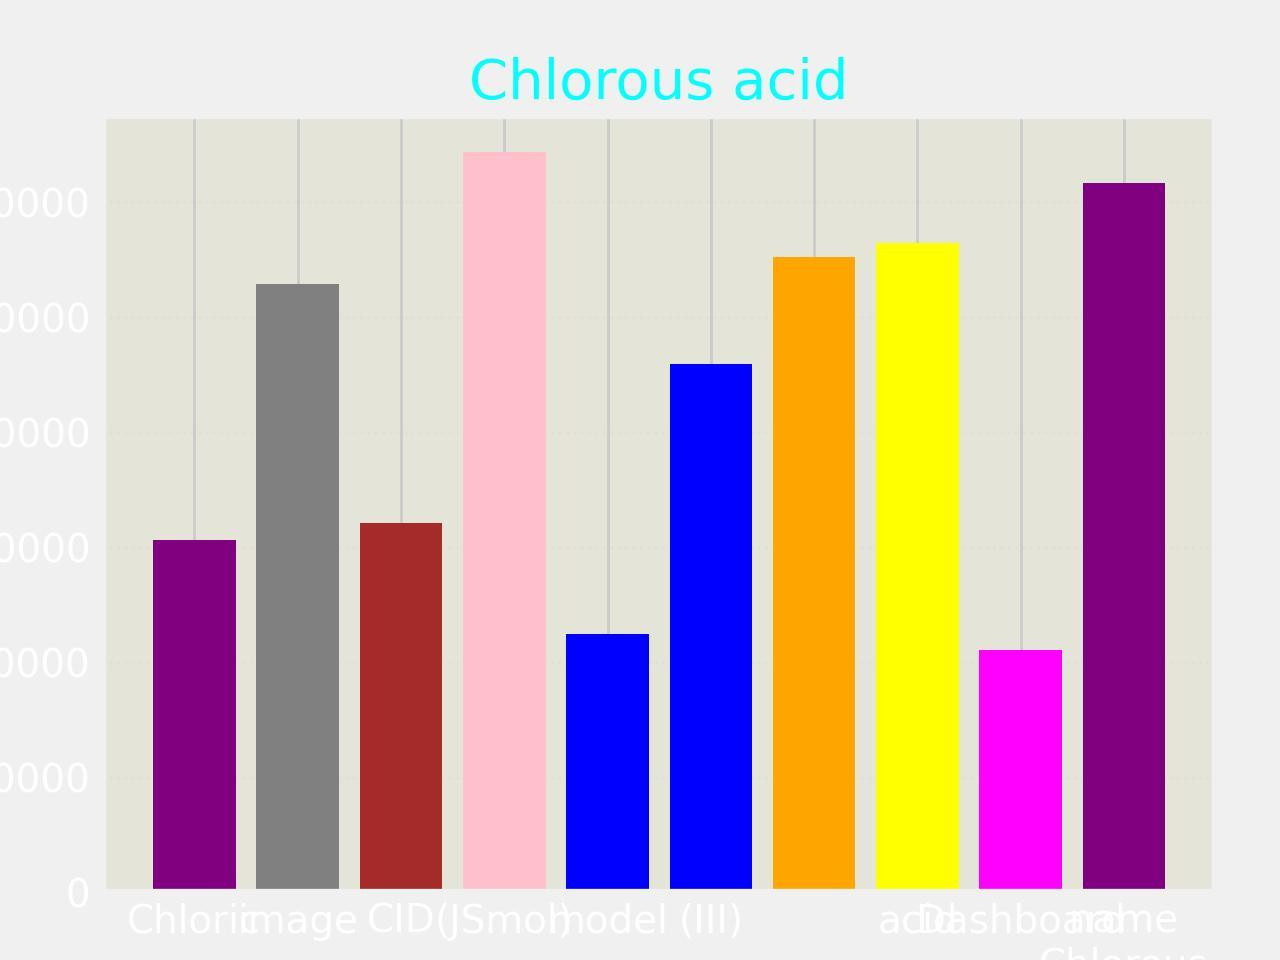axis: (0, 187, 90, 916)
rectangle: (463, 152, 545, 893), (1082, 183, 1165, 893), (876, 243, 959, 893), (772, 257, 856, 892), (256, 284, 339, 893), (669, 364, 753, 892), (360, 523, 442, 893), (153, 541, 236, 892), (566, 633, 649, 892), (980, 650, 1062, 893)
